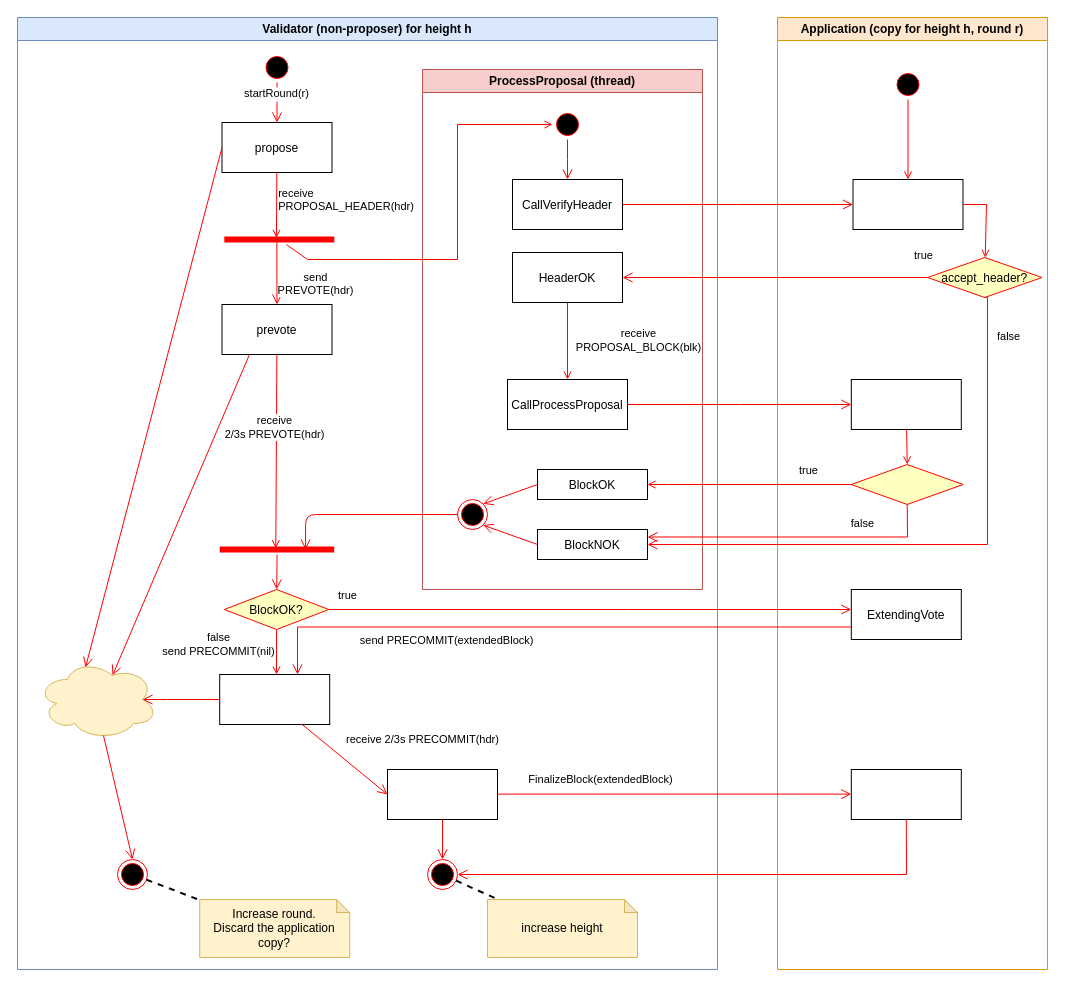
Image size: 1065x987. Some labels were removed from this diagram. The shapes that lost their labels are listed below. From the top down, each one's centre as x and y in pixels, then its label:
At (x=907, y=204): "VerifyingHeader".
At (x=905, y=404): "ProcessingProposal".
At (x=906, y=484): "accept_block?".
At (x=97, y=699): "catchup, timeouts, etc.".
At (x=274, y=699): "precommit".
At (x=442, y=794): "decide".
At (x=905, y=794): "Committed".
